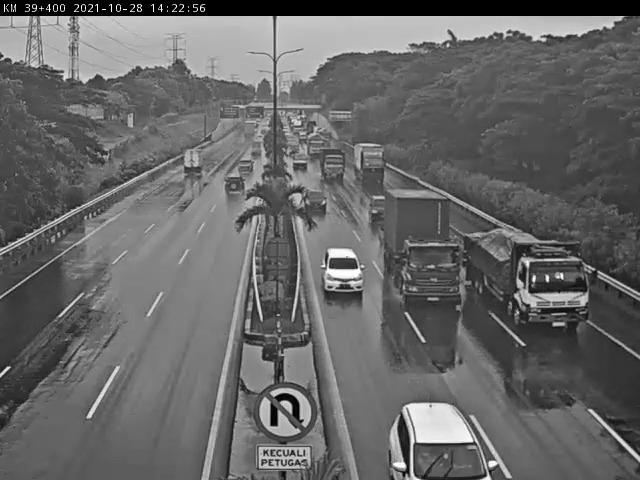big truck: (465, 224, 591, 319), (387, 189, 462, 303), (353, 140, 385, 181), (320, 147, 344, 182)
car: (322, 246, 363, 291), (305, 189, 327, 215), (184, 148, 205, 175), (225, 174, 245, 194), (237, 158, 255, 175), (293, 152, 309, 171)
